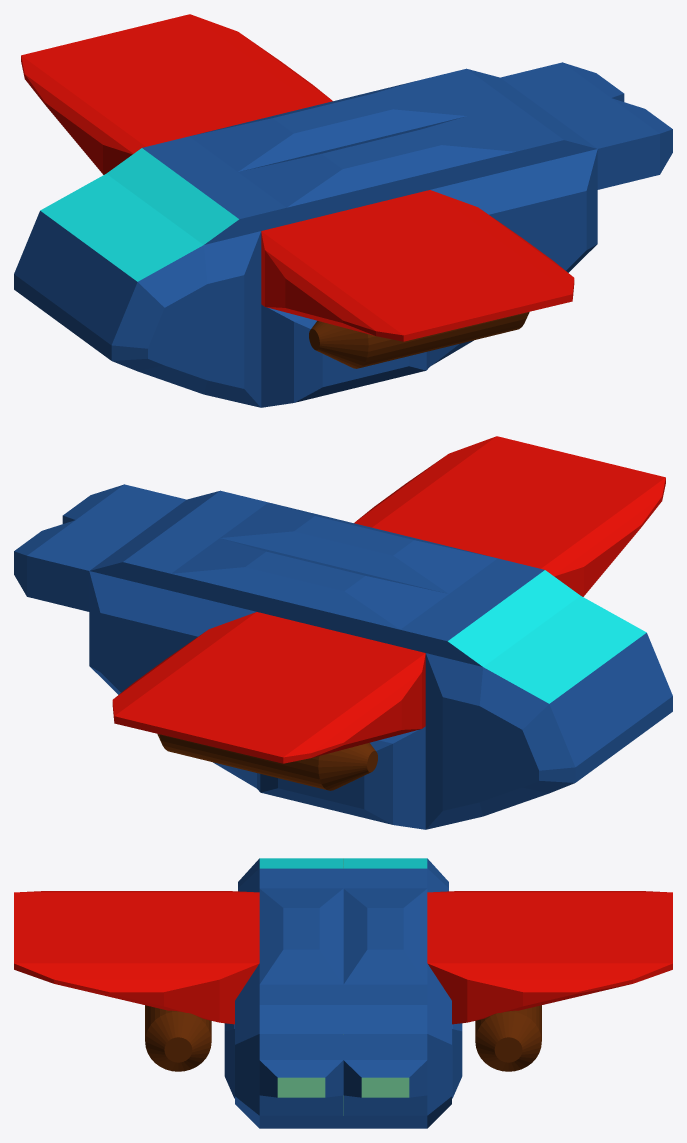
Rendered from nave3d.fbx.
The picture shows the model from 3 angles, top to bottom: view 1: azimuth 30°, elevation 25°; view 2: azimuth 150°, elevation 25°; view 3: azimuth 270°, elevation 25°; orthographic projection. The views are drawn at different scales.
Visible parts, largest first — view 1: Cube, Cube.001; view 2: Cube, Cube.001; view 3: Cube, Cube.001.
Boxes of the visible parts, x1,y1,x2,y2 form: Cube: [14, 14, 672, 407]; Cube.001: [309, 312, 529, 368]; Cube: [14, 436, 672, 829]; Cube.001: [157, 734, 377, 790]; Cube: [14, 858, 672, 1128]; Cube.001: [145, 1005, 541, 1071].
Size of the model in its own units: 677 by 232 by 785.
